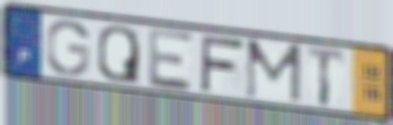E: (146, 25, 196, 93)
F: (198, 33, 247, 94)
G: (44, 18, 92, 78)
M: (244, 37, 304, 105)
Q: (95, 24, 142, 86)
T: (304, 44, 347, 109)
